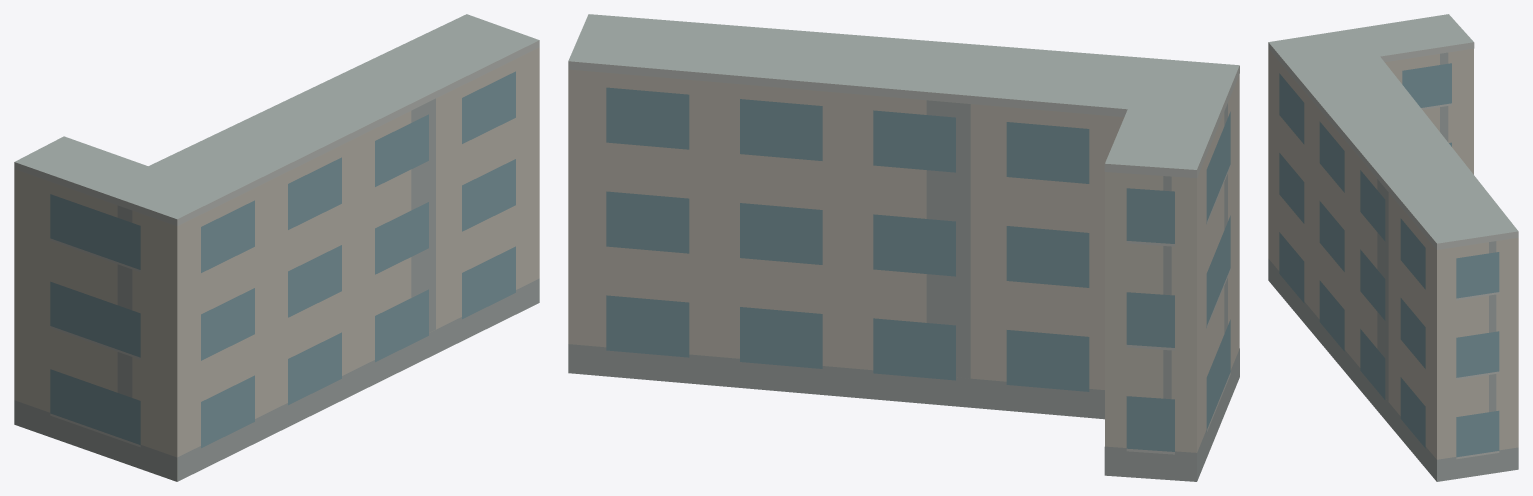
File: survey-upis-32538149.glb
3 views of the same model, side by side, from view 1: azimuth 30°, elevation 25°; view 2: azimuth 150°, elevation 25°; view 3: azimuth 270°, elevation 25° (orthographic). The views are drawn at different scales.
Visible parts, largest first — view 1: survey-upis-32538149.tmp; view 2: survey-upis-32538149.tmp; view 3: survey-upis-32538149.tmp.
Boxes of the visible parts, <box> form: survey-upis-32538149.tmp: <box>14,14,539,481</box>; survey-upis-32538149.tmp: <box>568,14,1239,481</box>; survey-upis-32538149.tmp: <box>1268,14,1518,481</box>.
Bounding box in the file's own units: 18.93 × 9.15 × 8.72.
